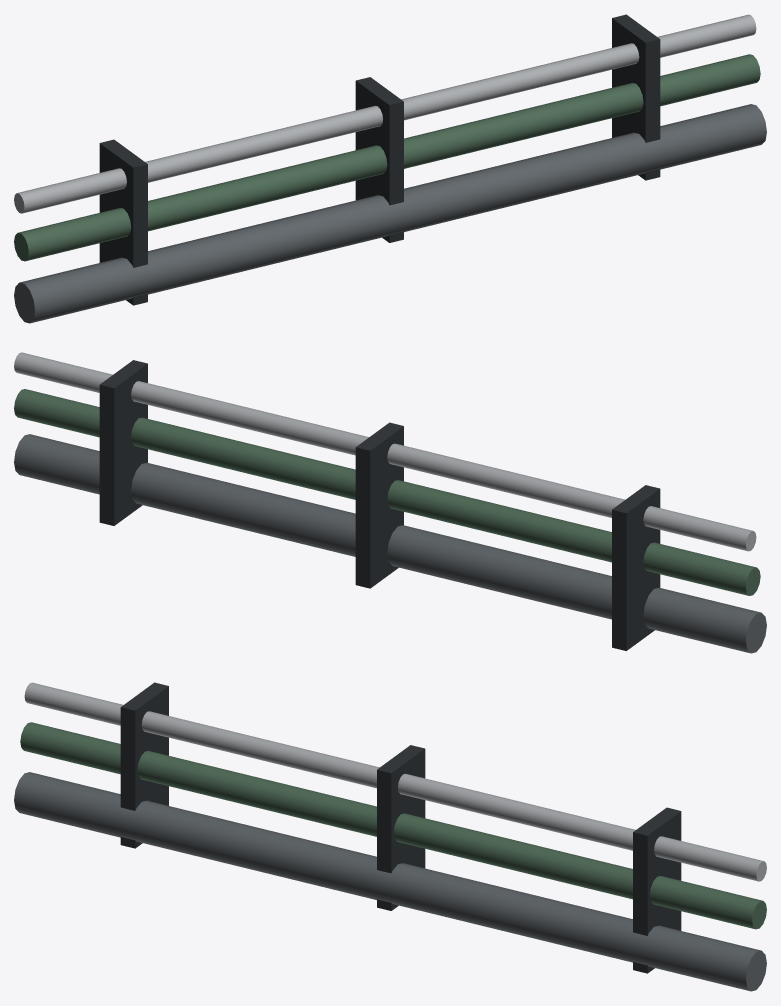
Rendered from PROP_Pipes_Wall_2m.glb.
3 renders of one model, top to bottom at view 1: azimuth 30°, elevation 25°; view 2: azimuth 150°, elevation 25°; view 3: azimuth 330°, elevation 25°, orthographic.
Parts seen in each view (by area): view 1: PROP_Pipes_Wall_2m_Mesh; view 2: PROP_Pipes_Wall_2m_Mesh; view 3: PROP_Pipes_Wall_2m_Mesh.
Part boxes in pixels (x1=…): PROP_Pipes_Wall_2m_Mesh: x1=14, y1=14, x2=766, y2=323; PROP_Pipes_Wall_2m_Mesh: x1=14, y1=352, x2=766, y2=653; PROP_Pipes_Wall_2m_Mesh: x1=14, y1=682, x2=766, y2=991.
Size of the model in its own units: 2 by 0.36 by 0.18.
